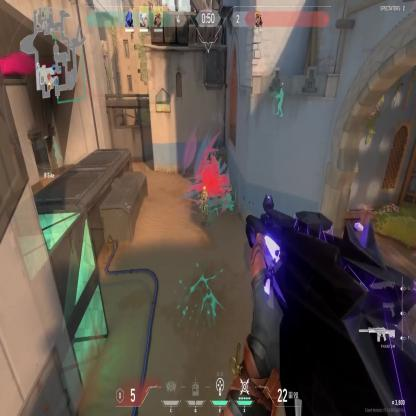enemy: (199, 184, 209, 227)
enemy_head: (202, 185, 206, 194)
